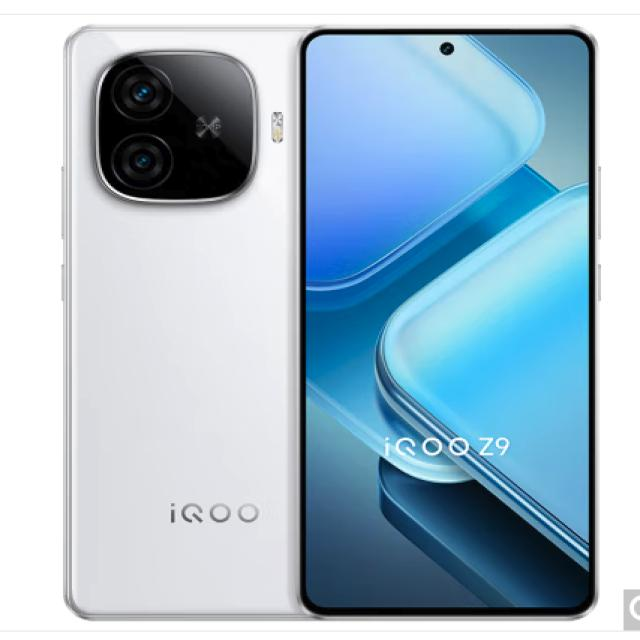mobile: (55, 19, 602, 625)
